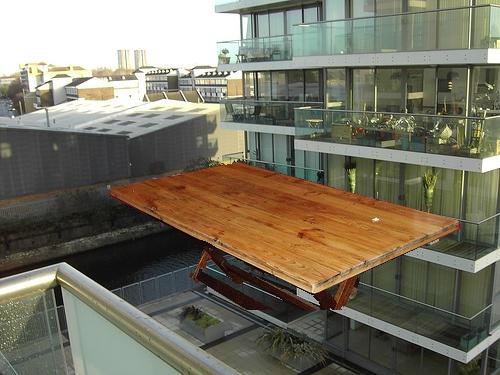tampered: (110, 163, 462, 310)
